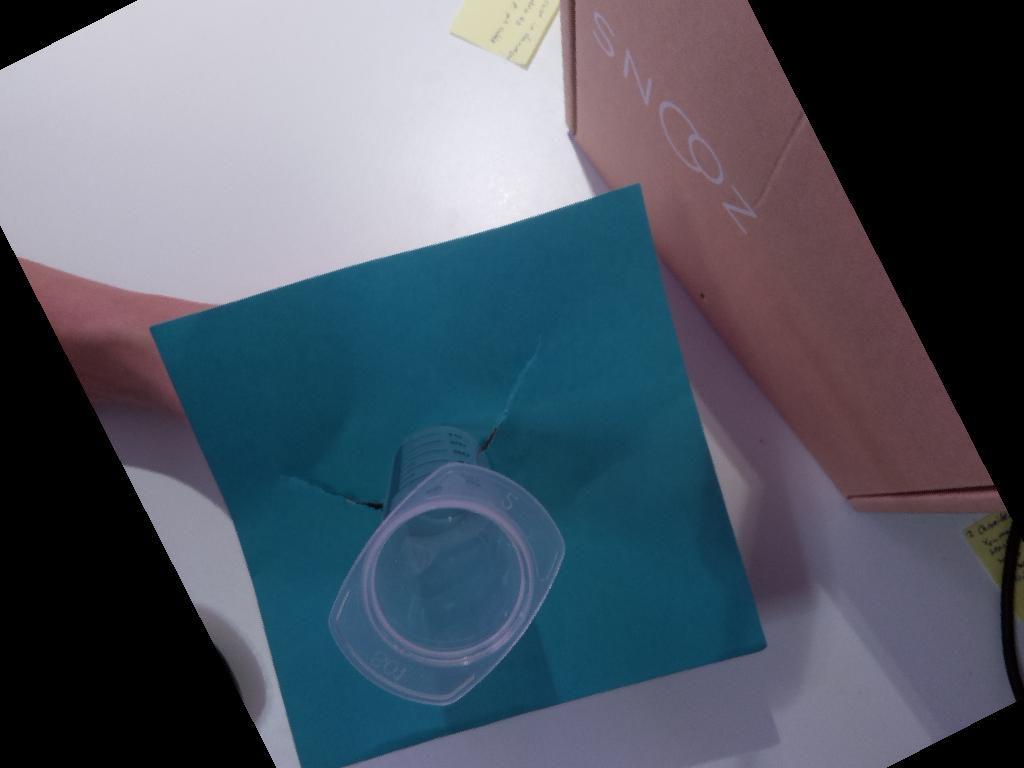clean: (327, 460, 566, 706)
